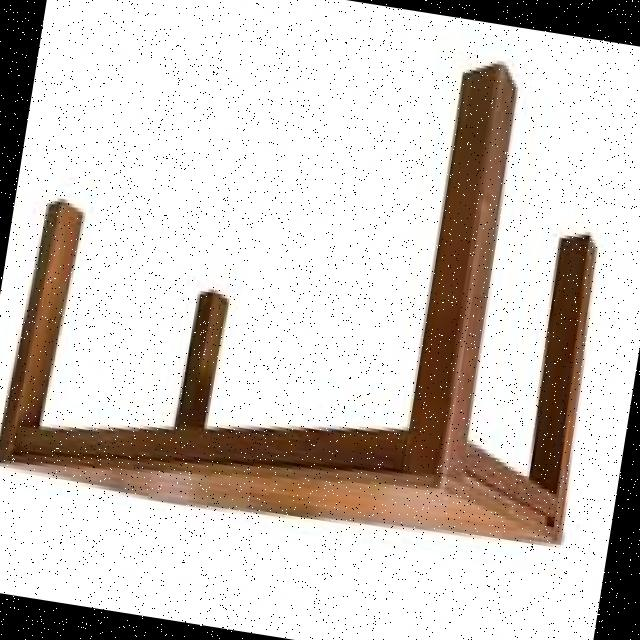Table: (0, 0, 640, 595)
